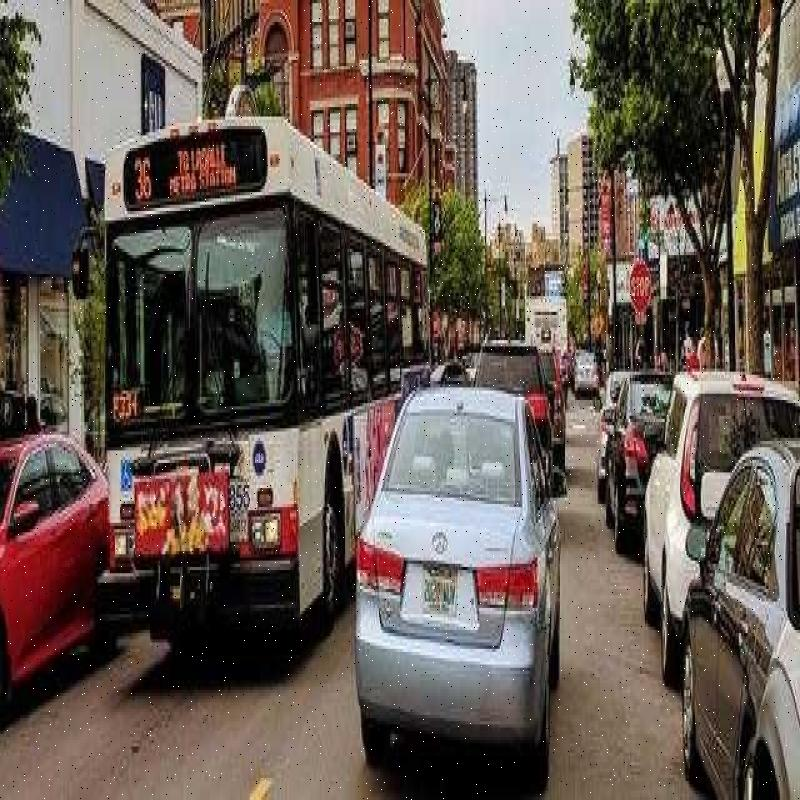bus: (101, 105, 392, 696)
